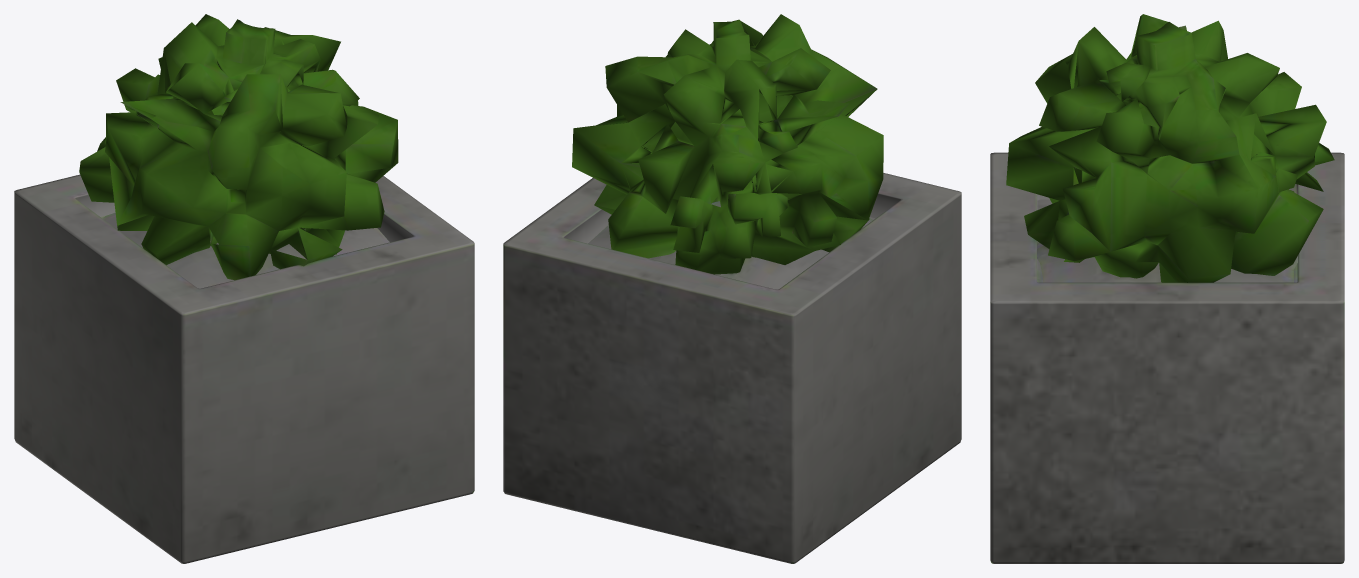
Rendered from street-planter.glb.
3 renders of one model, left to right at view 1: azimuth 30°, elevation 25°; view 2: azimuth 150°, elevation 25°; view 3: azimuth 270°, elevation 25°, orthographic. The views are drawn at different scales.
Parts seen in each view (by area): view 1: tripo_node_9b8a2b12-84c5-409e-b447-fbcc54697e3f; view 2: tripo_node_9b8a2b12-84c5-409e-b447-fbcc54697e3f; view 3: tripo_node_9b8a2b12-84c5-409e-b447-fbcc54697e3f.
Part boxes in pixels (x1=…): tripo_node_9b8a2b12-84c5-409e-b447-fbcc54697e3f: x1=14, y1=14, x2=474, y2=563; tripo_node_9b8a2b12-84c5-409e-b447-fbcc54697e3f: x1=503, y1=14, x2=961, y2=563; tripo_node_9b8a2b12-84c5-409e-b447-fbcc54697e3f: x1=990, y1=14, x2=1344, y2=563.
Size of the model in its own units: 0.4192 by 0.6 by 0.4192.
1 material, 1 textured.
